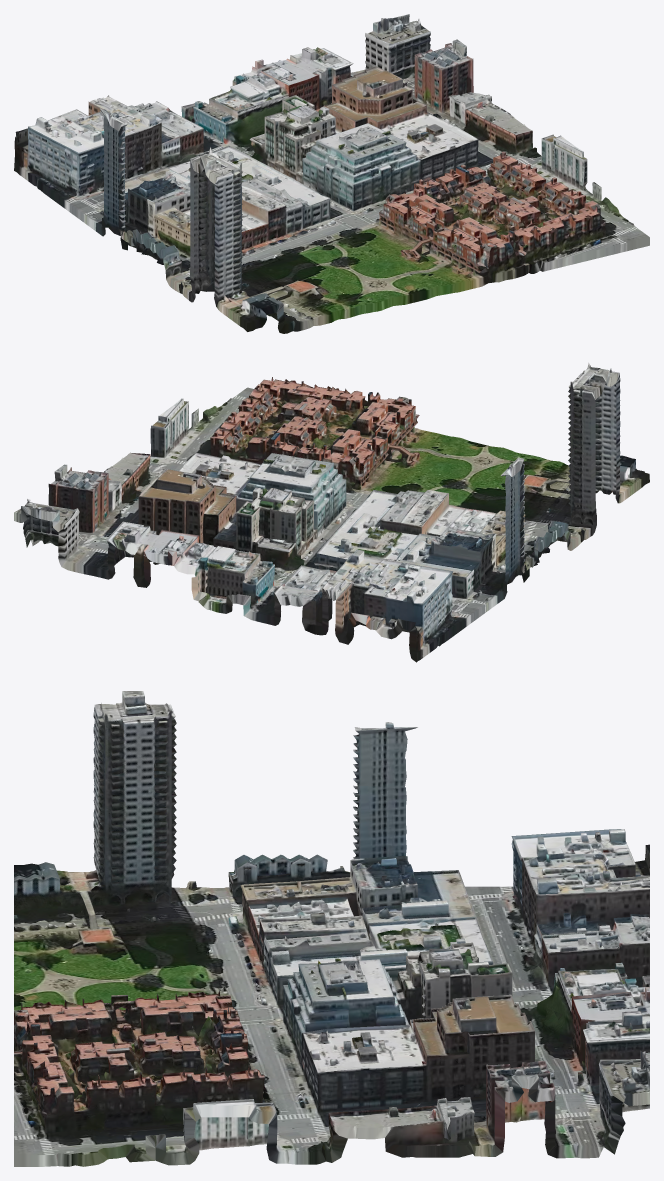
File: z17-20971-50651-h0-yup-uvflip-v3-world.glb
The picture shows the model from 3 angles, top to bottom: view 1: azimuth 30°, elevation 25°; view 2: azimuth 150°, elevation 25°; view 3: azimuth 270°, elevation 25°; orthographic projection. The views are drawn at different scales.
Bounding box in the file's own units: 242 × 87.68 × 243.
Materials: 1 (1 with a texture image).
